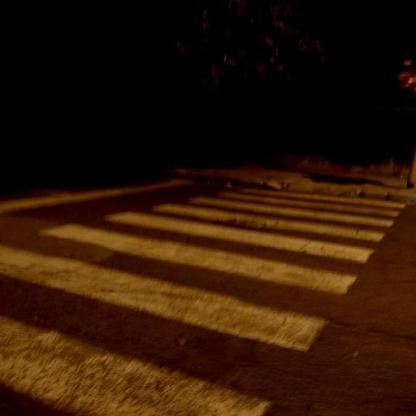crosswalk: (31, 208, 377, 299)
